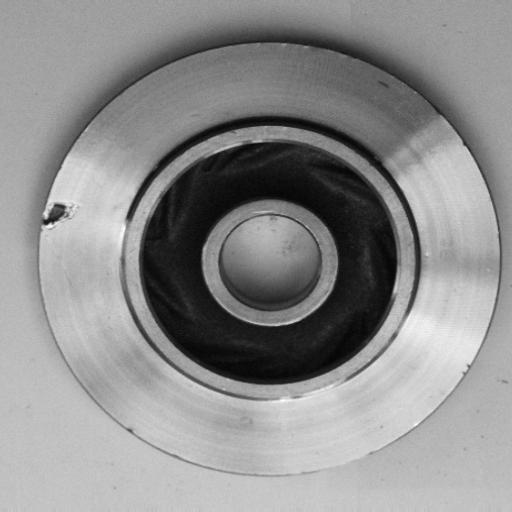crack: (35, 192, 90, 235)
scratch: (257, 375, 358, 418)
unpolished_casting: (38, 40, 503, 481)
